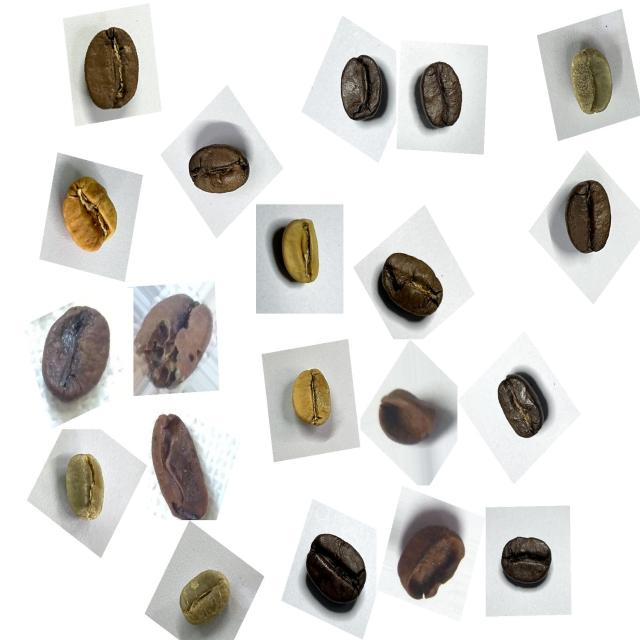bad: (124, 286, 221, 398), (31, 293, 122, 408), (137, 406, 221, 524), (391, 505, 475, 613), (368, 377, 443, 458)
dark: (298, 522, 377, 623), (552, 168, 628, 268), (370, 240, 450, 332), (328, 43, 397, 132), (181, 131, 259, 209), (487, 361, 555, 450), (492, 523, 560, 602)
green: (559, 36, 626, 130), (51, 444, 120, 534), (168, 557, 241, 640)
light: (51, 165, 130, 266), (263, 206, 333, 298), (282, 356, 346, 438)
medium: (68, 16, 154, 124), (408, 52, 476, 142)
